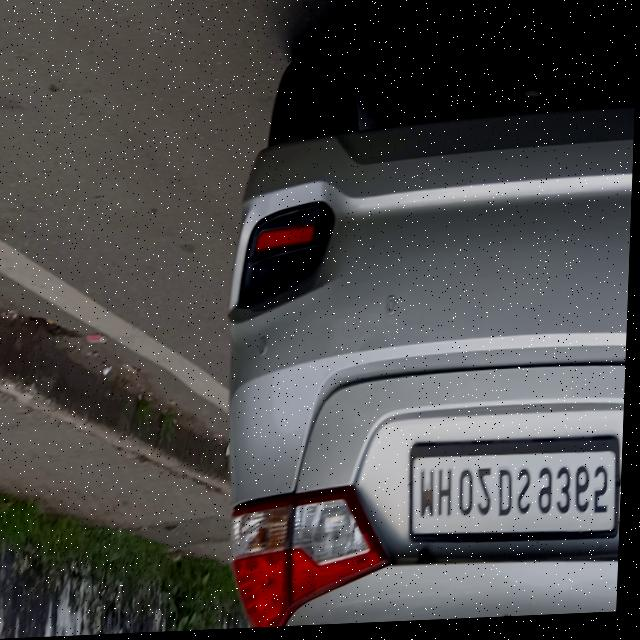plate: (410, 440, 626, 554)
